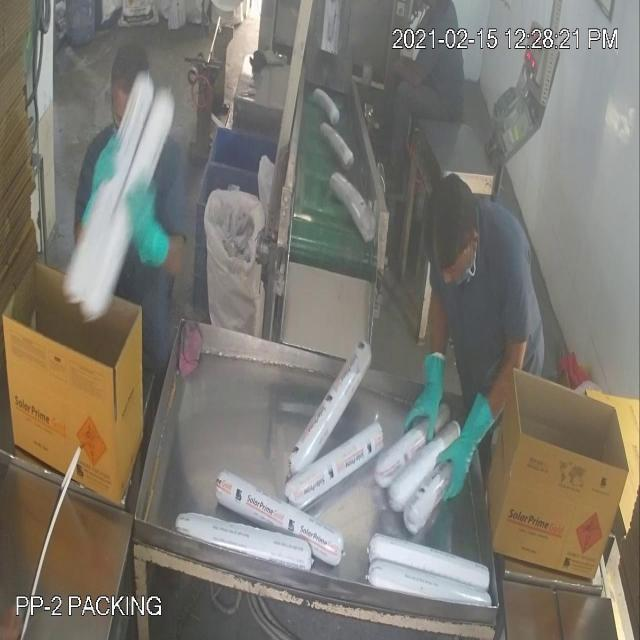Gloves: (50, 54, 464, 448)
